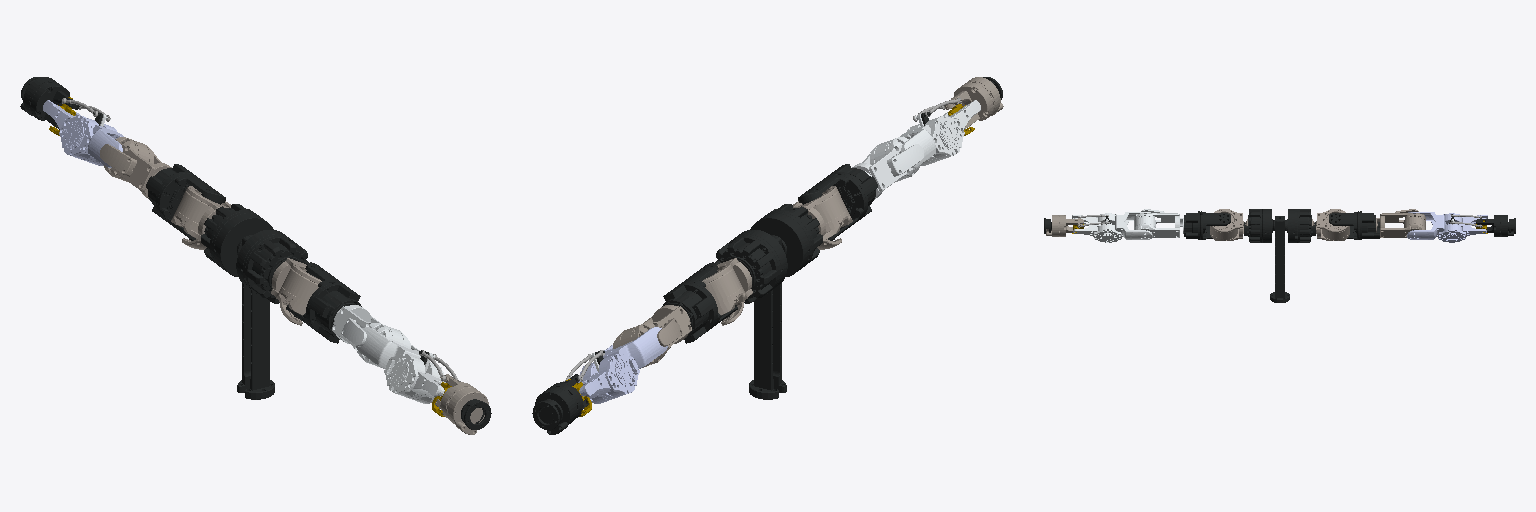
--- Facts derived from the render (not from the file) ---
Views: 3 orthographic renders of the robot side by side, from view 1: azimuth 30°, elevation 25°; view 2: azimuth 150°, elevation 25°; view 3: azimuth 270°, elevation 25°.
Model robot with 23 links and 22 joints (22 revolute), rooted at base_link, posed every joint at zero.
Visible links, largest first — view 1: base_link, right_forearm, left_forearm, right_shoulder_roll_link, left_shoulder_roll_link, left_shoulder_yaw_link, right_shoulder_pitch_link, right_shoulder_yaw_link, left_shoulder_pitch_link, right_wrist, left_wrist, right_gripper_base; view 2: base_link, left_forearm, right_forearm, left_shoulder_roll_link, right_shoulder_roll_link, right_shoulder_yaw_link, left_shoulder_pitch_link, left_shoulder_yaw_link, right_shoulder_pitch_link, left_wrist, right_wrist, left_gripper_base; view 3: base_link, right_forearm, left_forearm, left_shoulder_roll_link, right_shoulder_yaw_link, left_shoulder_yaw_link, right_shoulder_roll_link, right_shoulder_pitch_link, left_shoulder_pitch_link.
Boxes of the visible links, <box> form: base_link: <box>201,204,308,399</box>; right_forearm: <box>356,327,445,403</box>; left_forearm: <box>43,100,123,167</box>; right_shoulder_roll_link: <box>286,262,361,343</box>; left_shoulder_roll_link: <box>146,164,225,240</box>; left_shoulder_yaw_link: <box>100,137,171,199</box>; right_shoulder_pitch_link: <box>271,258,321,325</box>; right_shoulder_yaw_link: <box>332,305,410,367</box>; left_shoulder_pitch_link: <box>171,186,230,249</box>; right_wrist: <box>435,374,488,434</box>; left_wrist: <box>20,77,79,129</box>; right_gripper_base: <box>461,399,491,429</box>; base_link: <box>715,204,822,399</box>; left_forearm: <box>578,327,667,403</box>; right_forearm: <box>900,100,980,167</box>; left_shoulder_roll_link: <box>662,262,737,343</box>; right_shoulder_roll_link: <box>798,164,877,240</box>; right_shoulder_yaw_link: <box>852,137,923,199</box>; left_shoulder_pitch_link: <box>702,258,752,325</box>; left_shoulder_yaw_link: <box>613,305,691,367</box>; right_shoulder_pitch_link: <box>793,186,852,249</box>; left_wrist: <box>535,374,588,434</box>; right_wrist: <box>944,77,1003,129</box>; left_gripper_base: <box>532,399,562,429</box>; base_link: <box>1244,209,1315,302</box>; right_forearm: <box>1072,212,1152,242</box>; left_forearm: <box>1407,212,1487,242</box>; left_shoulder_roll_link: <box>1329,211,1379,239</box>; right_shoulder_yaw_link: <box>1134,209,1183,237</box>; left_shoulder_yaw_link: <box>1376,209,1425,237</box>; right_shoulder_roll_link: <box>1184,211,1230,239</box>; right_shoulder_pitch_link: <box>1210,209,1247,240</box>; left_shoulder_pitch_link: <box>1312,209,1349,240</box>.
Size in the robot's own frame: 0.1196 by 1.63 by 0.339 metres.
Meshes: 23 distinct files referenced, 23 mesh visuals loaded (23 binary STL).

robot.urdf — robot:
<?xml version="1.0" encoding="utf-8"?>
<!-- This URDF was automatically created by SolidWorks to URDF Exporter! Originally created by Stephen Brawner ([email redacted]) 
     Commit Version: 1.6.0-4-g7f85cfe  Build Version: 1.6.7995.38578
     For more information, please see http://wiki.ros.org/sw_urdf_exporter -->
<robot
  name="robot">
  <link
    name="base_link">
    <inertial>
      <origin
        xyz="0.00147272014117454 -4.54994072068441E-09 0.235068737367943"
        rpy="0 0 0" />
      <mass
        value="2.23115359794662" />
      <inertia
        ixx="0.00944193055298963"
        ixy="-1.08309872615388E-06"
        ixz="1.93238596494838E-05"
        iyy="0.0107717342587416"
        iyz="1.26472128084983E-09"
        izz="0.00205518160016258" />
    </inertial>
    <visual>
      <origin
        xyz="0 0 0"
        rpy="0 0 0" />
      <geometry>
        <mesh
          filename="../meshes/base_link.STL" />
      </geometry>
      <material
        name="">
        <color
          rgba="0.192156862745098 0.203921568627451 0.203921568627451 1" />
      </material>
    </visual>
    <collision>
      <origin xyz="0 0 0.16226" rpy="0 0 0" />
      <geometry>
        <box size="0.03 0.03 0.3"/>
      </geometry>
    </collision>
    <collision>
      <origin xyz="0 -0.055 0.27726" rpy="1.5708 0 0" />
      <geometry>
        <cylinder radius="0.06" length="0.07" />
      </geometry>
    </collision>
    <collision>
      <origin xyz="0 0.055 0.27726" rpy="1.5708 0 0" />
      <geometry>
        <cylinder radius="0.06" length="0.07" />
      </geometry>
    </collision>
  </link>
  <link
    name="right_shoulder_pitch_link">
    <inertial>
      <origin
        xyz="-0.00532522784423729 8.26577247259319E-07 0.0834613569694633"
        rpy="0 0 0" />
      <mass
        value="1.13079299592956" />
      <inertia
        ixx="0.00111955748418476"
        ixy="-1.3350399304533E-07"
        ixz="-6.50049886700451E-06"
        iyy="0.000735494362674131"
        iyz="-7.12206013917604E-07"
        izz="0.000742720089770939" />
    </inertial>
    <visual>
      <origin
        xyz="0 0 0"
        rpy="0 0 0" />
      <geometry>
        <mesh
          filename="../meshes/right_shoulder_pitch_link.STL" />
      </geometry>
      <material
        name="">
        <color
          rgba="0.650980392156863 0.619607843137255 0.588235294117647 1" />
      </material>
    </visual>
    <collision>
      <origin xyz="0 0 0.06" rpy="0 0 0" />
      <geometry>
        <cylinder radius="0.04" length="0.05" />
      </geometry>
    </collision>
    <collision>
      <origin xyz="0 0 0.13" rpy="0 1.5708 0" />
      <geometry>
        <cylinder radius="0.046" length="0.07" />
      </geometry>
    </collision>
  </link>
  <joint
    name="right_shoulder_pitch"
    type="revolute">
    <origin
      xyz="0 -0.0673 0.28"
      rpy="1.5708 -1.0471975511965976 0" />
    <parent
      link="base_link" />
    <child
      link="right_shoulder_pitch_link" />
    <axis
      xyz="0 0 1" />
    <limit
      lower="-1.71"
      upper="1.71"
      effort="25"
      velocity="4.19" />
  </joint>
  <link
    name="right_shoulder_roll_link">
    <inertial>
      <origin
        xyz="8.83713338706293E-06 -0.0765748033070129 0.00717573737325804"
        rpy="0 0 0" />
      <mass
        value="0.849607010535438" />
      <inertia
        ixx="0.000716350322640669"
        ixy="1.69364796610114E-08"
        ixz="-5.6191911508273E-07"
        iyy="0.000854333370065687"
        iyz="5.43582364636241E-06"
        izz="0.00077699264135314" />
    </inertial>
    <visual>
      <origin
        xyz="0 0 0"
        rpy="0 0 0" />
      <geometry>
        <mesh
          filename="../meshes/right_shoulder_roll_link.STL" />
      </geometry>
      <material
        name="">
        <color
          rgba="0.192156862745098 0.203921568627451 0.203921568627451 1" />
      </material>
    </visual>
    <collision>
      <origin xyz="0 -0.1 0" rpy="1.5708 0 0" />
      <geometry>
        <cylinder radius="0.046" length="0.07" />
      </geometry>
    </collision>
  </link>
  <joint
    name="right_shoulder_roll"
    type="revolute">
    <origin
      xyz="-0.00505 0 0.1255"
      rpy="-1.5708 0 -1.5708" />
    <parent
      link="right_shoulder_pitch_link" />
    <child
      link="right_shoulder_roll_link" />
    <axis
      xyz="0 0 1" />
    <limit
      lower="-1.92"
      upper="1.92"
      effort="25"
      velocity="4.19" />
  </joint>
  <link
    name="right_shoulder_yaw_link">
    <inertial>
      <origin
        xyz="3.11087972882221E-05 0.00310406490906229 0.101928569400798"
        rpy="0 0 0" />
      <mass
        value="1.19410296712963" />
      <inertia
        ixx="0.00102519983457596"
        ixy="1.42157819899506E-07"
        ixz="1.79607472994976E-08"
        iyy="0.00123985934857219"
        iyz="-5.63238220659982E-06"
        izz="0.000547070991716063" />
    </inertial>
    <visual>
      <origin
        xyz="0 0 0"
        rpy="0 0 0" />
      <geometry>
        <mesh
          filename="../meshes/right_shoulder_yaw_link.STL" />
      </geometry>
      <material
        name="">
        <color
          rgba="0.898039215686275 0.917647058823529 0.929411764705882 1" />
      </material>
    </visual>
    <collision>
      <origin xyz="0 0 0.14" rpy="0 0 0" />
      <geometry>
        <cylinder radius="0.035" length="0.15" />
      </geometry>
    </collision>
  </link>
  <joint
    name="right_shoulder_yaw"
    type="revolute">
    <origin
      xyz="0 -0.0909 0.00505"
      rpy="1.5708 -1.5708 0" />
    <parent
      link="right_shoulder_roll_link" />
    <child
      link="right_shoulder_yaw_link" />
    <axis
      xyz="0 0 1" />
    <limit
      lower="-1.71"
      upper="1.71"
      effort="18"
      velocity="7.33" />
  </joint>
  <link
    name="right_forearm">
    <inertial>
      <origin
        xyz="0.105562758074885 0.00790756946564095 0.00183627177319334"
        rpy="0 0 0" />
      <mass
        value="0.916341597219571" />
      <inertia
        ixx="0.000399695745671997"
        ixy="-0.000114563241161093"
        ixz="1.85640273017685E-06"
        iyy="0.00282246003058343"
        iyz="-1.51908491830226E-07"
        izz="0.00297392357285656" />
    </inertial>
    <visual>
      <origin
        xyz="0 0 0"
        rpy="0 0 0" />
      <geometry>
        <mesh
          filename="../meshes/right_forearm.STL" />
      </geometry>
      <material
        name="">
        <color
          rgba="0.898039215686275 0.917647058823529 0.929411764705882 1" />
      </material>
    </visual>
    <collision>
      <origin xyz="0.12 0 -0.02" rpy="0 1.5708 0" />
      <geometry>
        <box size="0.028 0.03 0.125" />
      </geometry>
    </collision>
    <collision>
      <origin xyz="0.12 0 0.025" rpy="0 1.5708 0" />
      <geometry>
        <box size="0.028 0.03 0.125" />
      </geometry>
    </collision>
  </link>
  <joint
    name="right_elbow"
    type="revolute">
    <origin
      xyz="0 0.00155 0.182"
      rpy="1.5708 -1.5708 0" />
    <parent
      link="right_shoulder_yaw_link" />
    <child
      link="right_forearm" />
    <axis
      xyz="0 0 1" />
    <limit
      lower="-2.27"
      upper="2.27"
      effort="18"
      velocity="7.33" />
  </joint>
  <link
    name="right_wrist_motor_in_link">
    <inertial>
      <origin
        xyz="0.000486504673607224 0.0148908669256033 0.018609795776213"
        rpy="0 0 0" />
      <mass
        value="0.0313860842365724" />
      <inertia
        ixx="6.47915057575108E-06"
        ixy="-1.60303814631147E-07"
        ixz="-1.48755349251548E-09"
        iyy="1.57783070884066E-06"
        iyz="-4.55308290032512E-08"
        izz="7.35882120548525E-06" />
    </inertial>
    <visual>
      <origin
        xyz="0 0 0"
        rpy="0 0 0" />
      <geometry>
        <mesh
          filename="../meshes/right_wrist_motor_in_link.STL" />
      </geometry>
      <material
        name="">
        <color
          rgba="0.898039215686275 0.917647058823529 0.929411764705882 1" />
      </material>
    </visual>
    <collision>
      <origin xyz="0 0.02 0.023" rpy="0 0 0" />
      <geometry>
        <box size="0.02 0.06 0.005" />
      </geometry>
    </collision>
  </link>
  <joint
    name="right_wrist_motor_in"
    type="revolute">
    <origin
      xyz="0.13 0.013 0.0286"
      rpy="-3.1416 0 0" />
    <parent
      link="right_forearm" />
    <child
      link="right_wrist_motor_in_link" />
    <axis
      xyz="0 0 1" />
    <limit
      lower="-0.52"
      upper="0.52"
      effort="3.5"
      velocity="19.9" />
  </joint>
  <link
    name="right_wrist_rod_in_link">
    <inertial>
      <origin
        xyz="0.0516491478878748 0.00292394998524086 0.0125149749315444"
        rpy="0 0 0" />
      <mass
        value="0.00695648786304813" />
      <inertia
        ixx="8.43154663080536E-08"
        ixy="-2.46438726046346E-07"
        ixz="-7.01217257392985E-08"
        iyy="1.76599969517587E-06"
        iyz="-9.51897221751403E-09"
        izz="1.80930841994434E-06" />
    </inertial>
    <visual>
      <origin
        xyz="0 0 0"
        rpy="0 0 0" />
      <geometry>
        <mesh
          filename="../meshes/right_wrist_rod_in_link.STL" />
      </geometry>
      <material
        name="">
        <color
          rgba="0.686274509803922 0.686274509803922 0.686274509803922 1" />
      </material>
    </visual>
    <collision>
      <origin xyz="0.045 0 0.012" rpy="0 1.5708 0" />
      <geometry>
        <cylinder radius="0.004" length="0.1" />
      </geometry>
    </collision>
  </link>
  <joint
    name="right_wrist_rod_in"
    type="revolute">
    <origin
      xyz="0.0016327 0.049973 0.022"
      rpy="3.1416 0 0" />
    <parent
      link="right_wrist_motor_in_link" />
    <child
      link="right_wrist_rod_in_link" />
    <axis
      xyz="0 0 1" />
    <limit
      lower="0"
      upper="0"
      effort="0"
      velocity="0" />
  </joint>
  <link
    name="right_wrist_motor_out_link">
    <inertial>
      <origin
        xyz="0.000495674323003459 -0.0148905645144327 0.0186751865697659"
        rpy="0 0 0" />
      <mass
        value="0.0313860842365724" />
      <inertia
        ixx="6.47895129593058E-06"
        ixy="1.63321927907862E-07"
        ixz="-1.51559092936055E-09"
        iyy="1.57802998866116E-06"
        iyz="4.55299043404704E-08"
        izz="7.35882120548524E-06" />
    </inertial>
    <visual>
      <origin
        xyz="0 0 0"
        rpy="0 0 0" />
      <geometry>
        <mesh
          filename="../meshes/right_wrist_motor_out_link.STL" />
      </geometry>
      <material
        name="">
        <color
          rgba="0.192156862745098 0.203921568627451 0.203921568627451 1" />
      </material>
    </visual>
    <collision>
      <origin xyz="0 -0.02 0.023" rpy="0 0 0" />
      <geometry>
        <box size="0.02 0.06 0.005" />
      </geometry>
    </collision>
  </link>
  <joint
    name="right_wrist_motor_out"
    type="revolute">
    <origin
      xyz="0.13 0.013 -0.0255"
      rpy="0 0 0" />
    <parent
      link="right_forearm" />
    <child
      link="right_wrist_motor_out_link" />
    <axis
      xyz="0 0 1" />
    <limit
      lower="-0.52"
      upper="0.52"
      effort="3.5"
      velocity="19.9" />
  </joint>
  <link
    name="right_wrist_rod_out_link">
    <inertial>
      <origin
        xyz="0.051661449229722 0.00294305077719635 -0.0114940186897614"
        rpy="0 0 0" />
      <mass
        value="0.00695648788358003" />
      <inertia
        ixx="8.53888027866676E-08"
        ixy="-2.46286794520273E-07"
        ixz="8.22910648639912E-08"
        iyy="1.76609023138599E-06"
        iyz="1.27937116935058E-08"
        izz="1.80814454891803E-06" />
    </inertial>
    <visual>
      <origin
        xyz="0 0 0"
        rpy="0 0 0" />
      <geometry>
        <mesh
          filename="../meshes/right_wrist_rod_out_link.STL" />
      </geometry>
      <material
        name="">
        <color
          rgba="0.686274509803922 0.686274509803922 0.686274509803922 1" />
      </material>
    </visual>
    <collision>
      <origin xyz="0.045 0 -0.012" rpy="0 1.5708 0" />
      <geometry>
        <cylinder radius="0.004" length="0.1" />
      </geometry>
    </collision>
  </link>
  <joint
    name="right_wrist_rod_out"
    type="revolute">
    <origin
      xyz="0.0016635 -0.049972 0.022"
      rpy="0 0 0" />
    <parent
      link="right_wrist_motor_out_link" />
    <child
      link="right_wrist_rod_out_link" />
    <axis
      xyz="0 0 -1" />
    <limit
      lower="0"
      upper="0"
      effort="0"
      velocity="0" />
  </joint>
  <link
    name="right_wrist_cross">
    <inertial>
      <origin
        xyz="-0.00184165997461916 -0.000998934616621937 -9.71067552113514E-06"
        rpy="0 0 0" />
      <mass
        value="0.132326301486308" />
      <inertia
        ixx="2.62555043347573E-05"
        ixy="4.79968397298582E-07"
        ixz="3.96160335863001E-11"
        iyy="2.04146112128981E-05"
        iyz="1.15138312380312E-11"
        izz="1.42109818886356E-05" />
    </inertial>
    <visual>
      <origin
        xyz="0 0 0"
        rpy="0 0 0" />
      <geometry>
        <mesh
          filename="../meshes/right_wrist_cross.STL" />
      </geometry>
      <material
        name="">
        <color
          rgba="0.647058823529412 0.517647058823529 0 1" />
      </material>
    </visual>
    <collision>
      <origin xyz="0 0 0" rpy="0 0 0" />
      <geometry>
        <box size="0.015 0.03 0.025" />
      </geometry>
    </collision>
  </link>
  <joint
    name="right_wrist_pitch"
    type="revolute">
    <origin
      xyz="0.24 0 0.00155"
      rpy="3.1416 0 0" />
    <parent
      link="right_forearm" />
    <child
      link="right_wrist_cross" />
    <axis
      xyz="0 0 1" />
    <limit
      lower="0"
      upper="0"
      effort="10"
      velocity="10" />
  </joint>
  <link
    name="right_wrist">
    <inertial>
      <origin
        xyz="0.042298218762761 0.00156667335010169 -0.000183447217444843"
        rpy="0 0 0" />
      <mass
        value="0.386593219326881" />
      <inertia
        ixx="0.000266004840981757"
        ixy="-1.86670067934292E-06"
        ixz="4.73881965440022E-07"
        iyy="0.000183921256911178"
        iyz="-1.13759377941005E-08"
        izz="0.000211651883119254" />
    </inertial>
    <visual>
      <origin
        xyz="0 0 0"
        rpy="0 0 0" />
      <geometry>
        <mesh
          filename="../meshes/right_wrist.STL" />
      </geometry>
      <material
        name="">
        <color
          rgba="0.647058823529412 0.619607843137255 0.588235294117647 1" />
      </material>
    </visual>
    <collision>
      <origin xyz="0.05 0 0" rpy="0 1.5708 0" />
      <geometry>
        <cylinder radius="0.035" length="0.07" />
      </geometry>
    </collision>
  </link>
  <joint
    name="right_wrist_yaw"
    type="revolute">
    <origin
      xyz="0 0 0"
      rpy="0 0 0" />
    <parent
      link="right_wrist_cross" />
    <child
      link="right_wrist" />
    <axis
      xyz="0 -1 0" />
    <limit
      lower="0"
      upper="0"
      effort="10"
      velocity="10" />
  </joint>
  <link
    name="right_gripper_base">
    <inertial>
      <origin
        xyz="0.00313989314964894 2.13213274813384E-09 0.0305809366194641"
        rpy="0 0 0" />
      <mass
        value="0.183401615087716" />
      <inertia
        ixx="4.47577104167389E-05"
        ixy="-4.85071748019812E-12"
        ixz="-6.83748877452417E-07"
        iyy="4.89743068845564E-05"
        iyz="-8.35020380955189E-12"
        izz="7.06053207201875E-05" />
    </inertial>
    <visual>
      <origin
        xyz="0 0 0"
        rpy="0 0 0" />
      <geometry>
        <mesh
          filename="../meshes/right_gripper_base.STL" />
      </geometry>
      <material
        name="">
        <color
          rgba="0.192156862745098 0.203921568627451 0.203921568627451 1" />
      </material>
    </visual>
    <collision>
      <origin xyz="0. 0 0.033" rpy="0 0 0" />
      <geometry>
        <cylinder radius="0.028" length="0.02" />
      </geometry>
    </collision>
  </link>
  <joint
    name="right_wrist_roll"
    type="revolute">
    <origin
      xyz="0.0649 0 0"
      rpy="1.5708 0 1.5708" />
    <parent
      link="right_wrist" />
    <child
      link="right_gripper_base" />
    <axis
      xyz="0 0 1" />
    <limit
      lower="-1.71"
      upper="1.71"
      effort="3.5"
      velocity="19.9" />
  </joint>
  <link
    name="left_shoulder_pitch_link">
    <inertial>
      <origin
        xyz="-0.00534025476466878 -1.72328151767931E-05 0.0833698809054832"
        rpy="0 0 0" />
      <mass
        value="1.13113545292018" />
      <inertia
        ixx="0.00111956825098263"
        ixy="1.6448197194214E-07"
        ixz="-7.4204412172966E-06"
        iyy="0.000735497383106259"
        iyz="-7.12016687904605E-07"
        izz="0.000742728061162835" />
    </inertial>
    <visual>
      <origin
        xyz="0 0 0"
        rpy="0 0 0" />
      <geometry>
        <mesh
          filename="../meshes/left_shoulder_pitch_link.STL" />
      </geometry>
      <material
        name="">
        <color
          rgba="0.650980392156863 0.619607843137255 0.588235294117647 1" />
      </material>
    </visual>
    <collision>
      <origin xyz="0 0 0.06" rpy="0 0 0" />
      <geometry>
        <cylinder radius="0.04" length="0.05" />
      </geometry>
    </collision>
    <collision>
      <origin xyz="0 0 0.13" rpy="0 1.5708 0" />
      <geometry>
        <cylinder radius="0.046" length="0.07" />
      </geometry>
    </collision>
  </link>
  <joint
    name="left_shoulder_pitch"
    type="revolute">
    <origin
      xyz="0 0.0673 0.28"
      rpy="-1.5708 -1.0471975511965976 0" />
    <parent
      link="base_link" />
    <child
      link="left_shoulder_pitch_link" />
    <axis
      xyz="0 0 1" />
    <limit
      lower="-1.71"
      upper="1.71"
      effort="25"
      velocity="4.19" />
  </joint>
  <link
    name="left_shoulder_roll_link">
    <inertial>
      <origin
        xyz="0.000256381515619575 0.0772810602122973 0.00736307989750385"
        rpy="0 0 0" />
      <mass
        value="0.858297430579225" />
      <inertia
        ixx="0.000717078290738737"
        ixy="6.47691357697301E-07"
        ixz="5.60867942065924E-07"
        iyy="0.000858575617830009"
        iyz="-5.47031619801493E-06"
        izz="0.000781149136875179" />
    </inertial>
    <visual>
      <origin
        xyz="0 0 0"
        rpy="0 0 0" />
      <geometry>
        <mesh
          filename="../meshes/left_shoulder_roll_link.STL" />
      </geometry>
      <material
        name="">
        <color
          rgba="0.192156862745098 0.203921568627451 0.203921568627451 1" />
      </material>
    </visual>
    <collision>
      <origin xyz="0 0.1 0" rpy="1.5708 0 0" />
      <geometry>
        <cylinder radius="0.046" length="0.07" />
      </geometry>
    </collision>
  </link>
  <joint
    name="left_shoulder_roll"
    type="revolute">
    <origin
      xyz="-0.00505 0 0.1255"
      rpy="1.5708 0 1.5708" />
    <parent
      link="left_shoulder_pitch_link" />
    <child
      link="left_shoulder_roll_link" />
    <axis
      xyz="0 0 1" />
    <limit
      lower="-1.92"
      upper="1.92"
      effort="25"
      velocity="4.19" />
  </joint>
  <link
    name="left_shoulder_yaw_link">
    <inertial>
      <origin
        xyz="-2.84686508781007E-05 -0.00322725212943376 0.102424285312729"
        rpy="0 0 0" />
      <mass
        value="1.20192519028406" />
      <inertia
        ixx="0.00102629454039792"
        ixy="1.42178453947011E-07"
        ixz="-1.23439468314395E-08"
        iyy="0.00124179703989242"
        iyz="5.63189477673622E-06"
        izz="0.00054793332843555" />
    </inertial>
    <visual>
      <origin
        xyz="0 0 0"
        rpy="0 0 0" />
      <geometry>
        <mesh
          filename="../meshes/left_shoulder_yaw_link.STL" />
      </geometry>
      <material
        name="">
        <color
          rgba="0.650980392156863 0.619607843137255 0.588235294117647 1" />
      </material>
    </visual>
    <collision>
      <origin xyz="0 0 0.14" rpy="0 0 0" />
      <geometry>
        <cylinder radius="0.035" length="0.15" />
      </geometry>
    </collision>
  </link>
  <joint
    name="left_shoulder_yaw"
    type="revolute">
    <origin
      xyz="0 0.0909 0.00505"
      rpy="-1.5708 -1.5708 0" />
    <parent
      link="left_shoulder_roll_link" />
    <child
      link="left_shoulder_yaw_link" />
    <axis
      xyz="0 0 1" />
    <limit
      lower="-1.71"
      upper="1.71"
      effort="18"
      velocity="7.33" />
  </joint>
  <link
    name="left_forearm">
    <inertial>
      <origin
        xyz="-0.00790248977534059 -0.105492245736688 0.00186024632986265"
        rpy="0 0 0" />
      <mass
        value="0.916952811817078" />
      <inertia
        ixx="0.00282788470885147"
        ixy="-0.000114847815891974"
        ixz="1.78659189184058E-07"
        iyy="0.000399863799805756"
        iyz="-2.53583408650867E-06"
        izz="0.0029793357461156" />
    </inertial>
    <visual>
      <origin
        xyz="0 0 0"
        rpy="0 0 0" />
      <geometry>
        <mesh
          filename="../meshes/left_forearm.STL" />
      </geometry>
      <material
        name="">
        <color
          rgba="0.792156862745098 0.819607843137255 0.933333333333333 1" />
      </material>
    </visual>
    <collision>
      <origin xyz="0 -0.12 -0.02" rpy="-1.5708 0 0" />
      <geometry>
        <box size="0.03 0.028 0.125" />
      </geometry>
    </collision>
    <collision>
      <origin xyz="0 -0.12 0.025" rpy="-1.5708 0 0" />
      <geometry>
        <box size="0.03 0.028 0.125" />
      </geometry>
    </collision>
  </link>
  <joint
    name="left_elbow"
    type="revolute">
    <origin
      xyz="0 -0.00155 0.182"
      rpy="-1.5708 0 0" />
    <parent
      link="left_shoulder_yaw_link" />
    <child
      link="left_forearm" />
    <axis
      xyz="0 0 1" />
    <limit
      lower="-2.27"
      upper="2.27"
      effort="18"
      velocity="7.33" />
  </joint>
  <link
    name="left_wrist_motor_in_link">
    <inertial>
      <origin
        xyz="0.0145121322658122 0.000483077120451703 0.0187417992477817"
        rpy="0 0 0" />
      <mass
        value="0.0310511309641869" />
      <inertia
        ixx="1.57526087351223E-06"
        ixy="-1.6332191748318E-07"
        ixz="-4.55299043404628E-08"
        iyy="6.47618218042628E-06"
        iyz="-1.51559092936142E-09"
        izz="7.35501699167019E-06" />
    </inertial>
    <visual>
      <origin
        xyz="0 0 0"
        rpy="0 0 0" />
      <geometry>
        <mesh
          filename="../meshes/left_wrist_motor_in_link.STL" />
      </geometry>
      <material
        name="">
        <color
          rgba="0.898039215686275 0.917647058823529 0.929411764705882 1" />
      </material>
    </visual>
    <collision>
      <origin xyz="0.02 0 0.023" rpy="0 0 0" />
      <geometry>
        <box size="0.06 0.02 0.005" />
      </geometry>
    </collision>
  </link>
  <joint
    name="left_wrist_motor_in"
    type="revolute">
    <origin
      xyz="-0.013 -0.13 0.0286"
      rpy="-3.1416 0 0" />
    <parent
      link="left_forearm" />
    <child
      link="left_wrist_motor_in_link" />
    <axis
      xyz="0 0 1" />
    <limit
      lower="-0.52"
      upper="0.52"
      effort="3.5"
      velocity="19.9" />
  </joint>
  <link
    name="left_wrist_rod_in_link">
    <inertial>
      <origin
        xyz="0.0483324518629342 0.0100117484535324 -0.0116382451041443"
        rpy="0 0 0" />
      <mass
        value="0.00729144113761536" />
      <inertia
        ixx="1.96274953654439E-07"
        ixy="-4.80279941217406E-07"
        ixz="7.96702351323028E-08"
        iyy="1.6606641268409E-06"
        iyz="2.42489517565888E-08"
        izz="1.81202694265125E-06" />
    </inertial>
    <visual>
      <origin
        xyz="0 0 0"
        rpy="0 0 0" />
      <geometry>
        <mesh
          filename="../meshes/left_wrist_rod_in_link.STL" />
      </geometry>
      <material
        name="">
        <color
          rgba="0.686274509803922 0.686274509803922 0.686274509803922 1" />
      </material>
    </visual>
    <collision>
      <origin xyz="0.045 0 -0.012" rpy="0 1.5708 0.1477" />
      <geometry>
        <cylinder radius="0.004" length="0.1" />
      </geometry>
    </collision>
  </link>
  <joint
    name="left_wrist_rod_in"
    type="revolute">
    <origin
      xyz="0.049972 0.0016635 0.022"
      rpy="0 0 1.4231" />
    <parent
      link="left_wrist_motor_in_link" />
    <child
      link="left_wrist_rod_in_link" />
    <axis
      xyz="0 0 1" />
    <limit
      lower="0"
      upper="0"
      effort="0"
      velocity="0" />
  </joint>
  <link
    name="left_wrist_motor_out_link">
    <inertial>
      <origin
        xyz="0.0145124269983435 -0.000474140529607925 0.0186832540751177"
        rpy="0 0 0" />
      <mass
        value="0.0310511309641868" />
      <inertia
        ixx="1.5750616222411E-06"
        ixy="1.60303828813108E-07"
        ixz="-4.55308290033022E-08"
        iyy="6.47638143169742E-06"
        iyz="1.48755349251706E-09"
        izz="7.35501699167019E-06" />
    </inertial>
    <visual>
      <origin
        xyz="0 0 0"
        rpy="0 0 0" />
      <geometry>
        <mesh
          filename="../meshes/left_wrist_motor_out_link.STL" />
      </geometry>
      <material
        name="">
        <color
          rgba="0.192156862745098 0.203921568627451 0.203921568627451 1" />
      </material>
    </visual>
    <collision>
      <origin xyz="0.02 0 0.023" rpy="0 0 0" />
      <geometry>
        <box size="0.06 0.02 0.005" />
      </geometry>
    </collision>
  </link>
  <joint
    name="left_wrist_motor_out"
    type="revolute">
    <origin
      xyz="-0.013 -0.13 -0.0255"
      rpy="0 0 0" />
    <parent
      link="left_forearm" />
    <child
      link="left_wrist_motor_out_link" />
    <axis
      xyz="0 0 1" />
    <limit
      lower="-0.52"
      upper="0.52"
      effort="3.5"
      velocity="19.9" />
  </joint>
  <link
    name="left_wrist_rod_out_link">
    <inertial>
      <origin
        xyz="0.0483426514188993 0.0100521166817707 0.0118661587653892"
        rpy="0 0 0" />
      <mass
        value="0.00729144118508779" />
      <inertia
        ixx="1.95826009665744E-07"
        ixy="-4.81434684759479E-07"
        ixz="-6.75856246912179E-08"
        iyy="1.66004958116742E-06"
        iyz="-2.09747254625527E-08"
        izz="1.81309043435021E-06" />
    </inertial>
    <visual>
      <origin
        xyz="0 0 0"
        rpy="0 0 0" />
      <geometry>
        <mesh
          filename="../meshes/left_wrist_rod_out_link.STL" />
      </geometry>
      <material
        name="">
        <color
          rgba="0.686274509803922 0.686274509803922 0.686274509803922 1" />
      </material>
    </visual>
    <collision>
      <origin xyz="0.045 0 0.012" rpy="0 1.5708 0.1477" />
      <geometry>
        <cylinder radius="0.004" length="0.1" />
      </geometry>
    </collision>
  </link>
  <joint
    name="left_wrist_rod_out"
    type="revolute">
    <origin
      xyz="0.049973 -0.0016327 0.022"
      rpy="3.1416 0 -1.4225" />
    <parent
      link="left_wrist_motor_out_link" />
    <child
      link="left_wrist_rod_out_link" />
    <axis
      xyz="0 0 1" />
    <limit
      lower="0"
      upper="0"
      effort="0"
      velocity="0" />
  </joint>
  <link
    name="left_wrist_cross">
    <inertial>
      <origin
        xyz="-0.00143979390406035 0.00078095848083032 7.59172230674343E-06"
        rpy="0 0 0" />
      <mass
        value="0.169260372686378" />
      <inertia
        ixx="3.72005179641958E-05"
        ixy="-4.79968397298594E-07"
        ixz="-3.96160335888178E-11"
        iyy="2.08869292907386E-05"
        iyz="1.15138311978771E-11"
        izz="2.51559955180742E-05" />
    </inertial>
    <visual>
      <origin
        xyz="0 0 0"
        rpy="0 0 0" />
      <geometry>
        <mesh
          filename="../meshes/left_wrist_cross.STL" />
      </geometry>
      <material
        name="">
        <color
          rgba="0.647058823529412 0.517647058823529 0 1" />
      </material>
    </visual>
    <collision>
      <origin xyz="0 0 0" rpy="0 0 0" />
      <geometry>
        <box size="0.015 0.03 0.025" />
      </geometry>
    </collision>
  </link>
  <joint
    name="left_wrist_pitch"
    type="revolute">
    <origin
      xyz="0 -0.24 0.00155"
      rpy="-3.1416 0 -1.5708" />
    <parent
      link="left_forearm" />
    <child
      link="left_wrist_cross" />
    <axis
      xyz="0 0 1" />
    <limit
      lower="0"
      upper="0"
      effort="10"
      velocity="10" />
  </joint>
  <link
    name="left_wrist">
    <inertial>
      <origin
        xyz="0.0487550272219971 -0.00102008924882463 0.000128510487079403"
        rpy="0 0 0" />
      <mass
        value="0.338631424696225" />
      <inertia
        ixx="0.000253743036452107"
        ixy="1.86670056564983E-06"
        ixz="-4.73881985381412E-07"
        iyy="0.000182129228605622"
        iyz="-1.13770337377369E-08"
        izz="0.000200622106817227" />
    </inertial>
    <visual>
      <origin
        xyz="0 0 0"
        rpy="0 0 0" />
      <geometry>
        <mesh
          filename="../meshes/left_wrist.STL" />
      </geometry>
      <material
        name="">
        <color
          rgba="0.192156862745098 0.203921568627451 0.203921568627451 1" />
      </material>
    </visual>
    <collision>
      <origin xyz="0.05 0 0" rpy="0 1.5708 0" />
      <geometry>
        <cylinder radius="0.035" length="0.07" />
      </geometry>
    </collision>
  </link>
  <joint
    name="left_wrist_yaw"
    type="revolute">
    <origin
      xyz="0 0 0"
      rpy="0 0 0" />
    <parent
      link="left_wrist_cross" />
    <child
      link="left_wrist" />
    <axis
      xyz="0 1 0" />
    <limit
      lower="0"
      upper="0"
      effort="10"
      velocity="10" />
  </joint>
  <link
    name="left_gripper_base">
    <inertial>
      <origin
        xyz="0.00313989314856107 2.13230622048144E-09 0.030580931079556"
        rpy="0 0 0" />
      <mass
        value="0.183401615087716" />
      <inertia
        ixx="4.4757710416739E-05"
        ixy="-4.85071749151762E-12"
        ixz="-6.83748877452398E-07"
        iyy="4.89743068845565E-05"
        iyz="-8.35020380126424E-12"
        izz="7.06053207201875E-05" />
    </inertial>
    <visual>
      <origin
        xyz="0 0 0"
        rpy="0 0 0" />
      <geometry>
        <mesh
          filename="../meshes/left_gripper_base.STL" />
      </geometry>
      <material
        name="">
        <color
          rgba="0.192156862745098 0.203921568627451 0.203921568627451 1" />
      </material>
    </visual>
    <collision>
      <origin xyz="0. 0 0.033" rpy="0 0 0" />
      <geometry>
        <cylinder radius="0.028" length="0.02" />
      </geometry>
    </collision>
  </link>
  <joint
    name="left_wrist_roll"
    type="revolute">
    <origin
      xyz="0.0649 0 0"
      rpy="-1.5708 0 -1.5708" />
    <parent
      link="left_wrist" />
    <child
      link="left_gripper_base" />
    <axis
      xyz="0 0 1" />
    <limit
      lower="-1.71"
      upper="1.71"
      effort="35"
      velocity="19.9" />
  </joint>
</robot>
